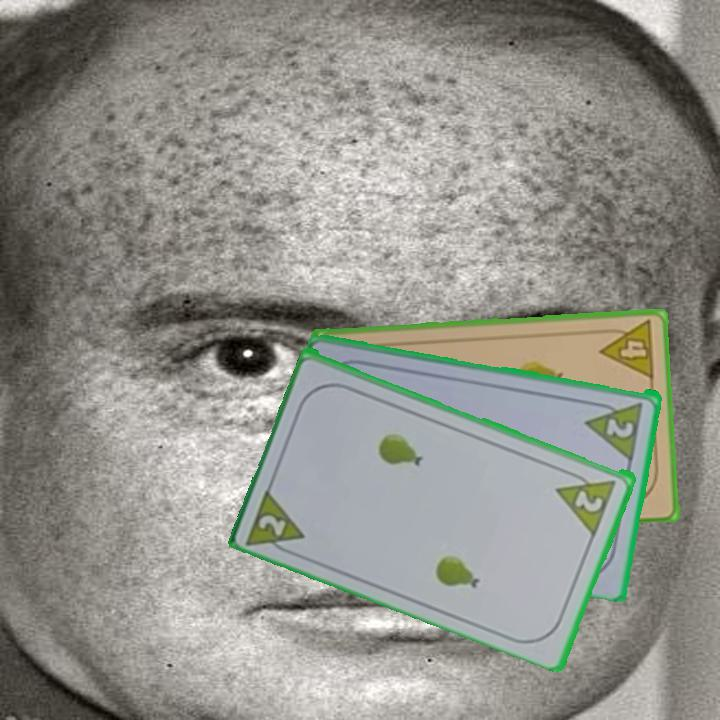2p: (243, 482, 309, 560), (571, 486, 607, 515), (603, 413, 637, 441)
4p: (596, 317, 657, 382)
